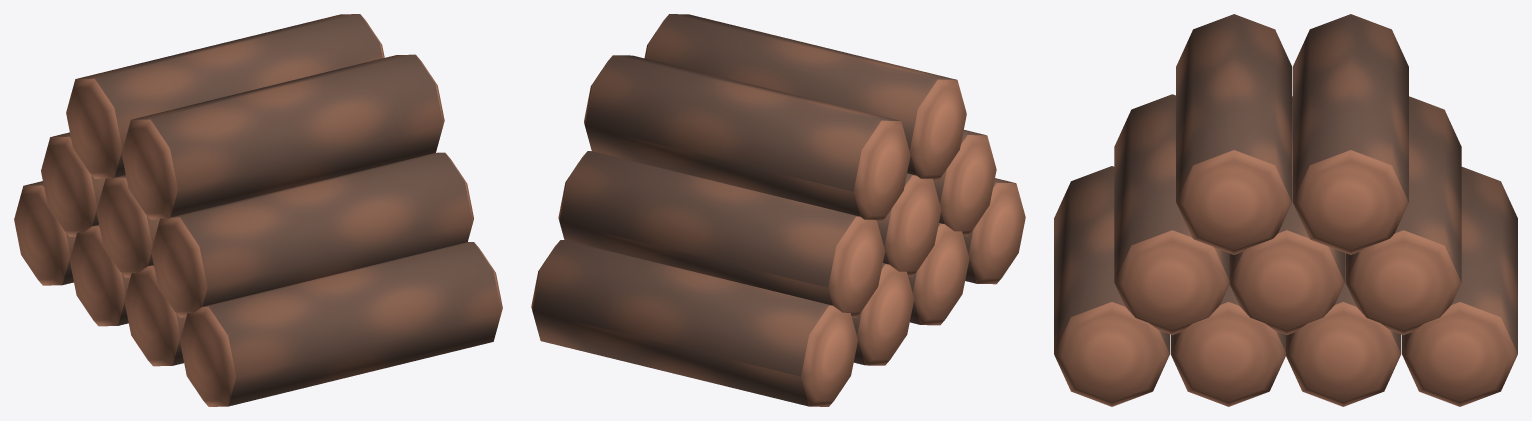
File: Woodstack.fbx
3 renders of one model, left to right at view 1: azimuth 30°, elevation 25°; view 2: azimuth 150°, elevation 25°; view 3: azimuth 270°, elevation 25°, orthographic. The views are drawn at different scales.
Visible parts, largest first — view 1: Cylinder.005; view 2: Cylinder.005; view 3: Cylinder.005.
Part boxes in pixels (x1,y1,x2,y2): Cylinder.005: [14, 14, 502, 406]; Cylinder.005: [531, 14, 1025, 406]; Cylinder.005: [1054, 14, 1517, 406].
Size of the model in its own units: 95.73 by 81.18 by 133.
